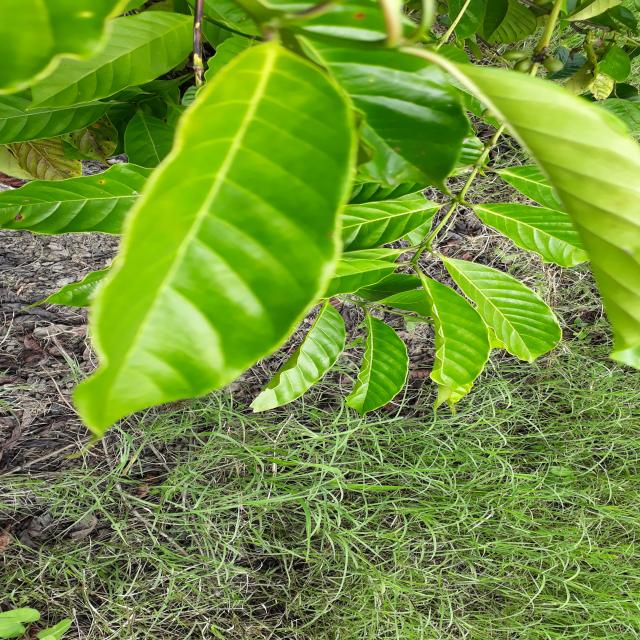Sanas: (70, 30, 359, 439)
